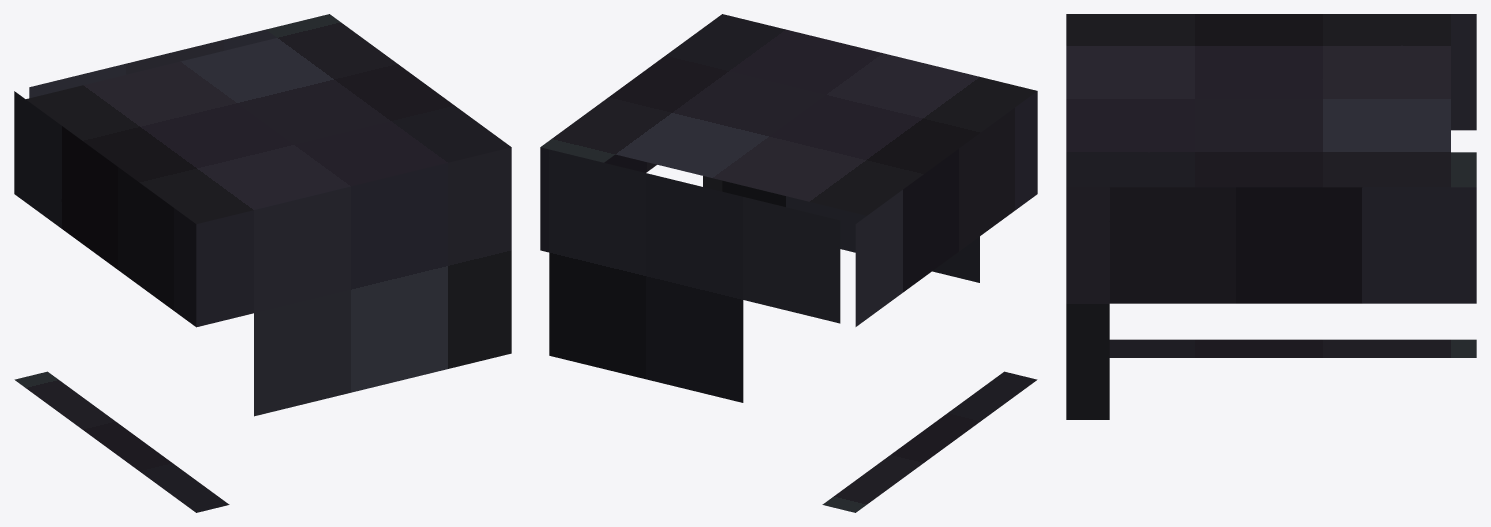
Rendered from sl_protogen_head__body.glb.
3 renders of one model, left to right at view 1: azimuth 30°, elevation 25°; view 2: azimuth 150°, elevation 25°; view 3: azimuth 270°, elevation 25°, orthographic. The views are drawn at different scales.
Visible parts, largest first — view 1: bb_protogen_head; view 2: bb_protogen_head; view 3: bb_protogen_head.
Boxes of the visible parts, box(x1,y1,x2,y2) form: bb_protogen_head: box(14, 14, 511, 512); bb_protogen_head: box(540, 14, 1037, 512); bb_protogen_head: box(1066, 14, 1476, 419).
Bounding box in the file's own units: 0.5 × 0.4375 × 0.5.
1 material, 1 textured.
